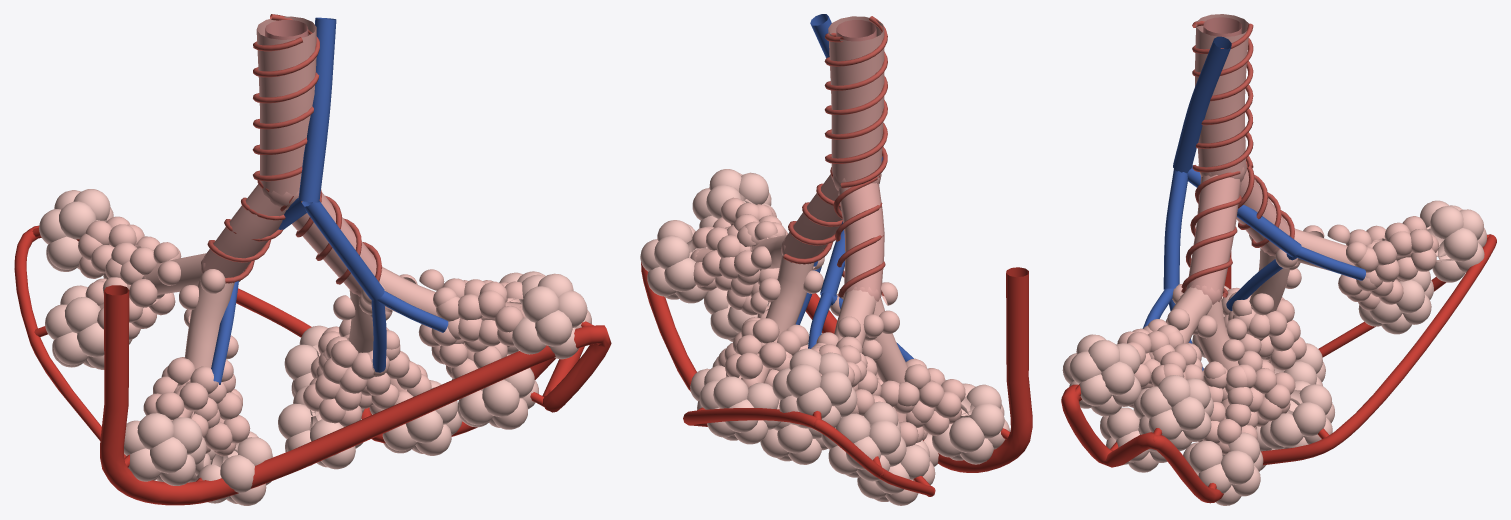
Rendered from bronquiolos.glb.
3 views of the same model, side by side, from view 1: azimuth 30°, elevation 25°; view 2: azimuth 150°, elevation 25°; view 3: azimuth 270°, elevation 25° (orthographic). The views are drawn at different scales.
Visible parts, largest first — view 1: sac, alv_duct, vein, art, bronchiole, resp, terminal, muscle, alv_resp, mucosa, duct; view 2: sac, alv_duct, vein, bronchiole, terminal, muscle, resp, alv_resp, art, mucosa, duct; view 3: sac, alv_duct, vein, art, terminal, muscle, bronchiole, alv_resp, resp, mucosa.
Boxes of the visible parts, x1=… form: sac: x1=39, y1=189, x2=591, y2=505; alv_duct: x1=78, y1=216, x2=523, y2=453; vein: x1=14, y1=225, x2=611, y2=505; art: x1=211, y1=17, x2=448, y2=384; bronchiole: x1=256, y1=16, x2=316, y2=210; resp: x1=142, y1=253, x2=437, y2=369; terminal: x1=201, y1=184, x2=382, y2=296; muscle: x1=207, y1=14, x2=381, y2=284; alv_resp: x1=153, y1=242, x2=457, y2=381; mucosa: x1=265, y1=19, x2=308, y2=39; duct: x1=99, y1=244, x2=525, y2=456; sac: x1=640, y1=169, x2=1009, y2=505; alv_duct: x1=692, y1=197, x2=965, y2=446; vein: x1=641, y1=262, x2=1032, y2=496; bronchiole: x1=828, y1=16, x2=884, y2=190; terminal: x1=781, y1=174, x2=884, y2=301; muscle: x1=783, y1=16, x2=887, y2=297; resp: x1=751, y1=235, x2=908, y2=383; alv_resp: x1=750, y1=221, x2=899, y2=360; art: x1=795, y1=14, x2=913, y2=361; mucosa: x1=836, y1=20, x2=876, y2=41; duct: x1=690, y1=223, x2=961, y2=424; sac: x1=1062, y1=200, x2=1486, y2=505; alv_duct: x1=1117, y1=216, x2=1436, y2=444; vein: x1=1061, y1=234, x2=1496, y2=503; art: x1=1142, y1=36, x2=1365, y2=370; terminal: x1=1187, y1=169, x2=1289, y2=304; muscle: x1=1181, y1=21, x2=1294, y2=297; bronchiole: x1=1195, y1=14, x2=1248, y2=181; alv_resp: x1=1148, y1=224, x2=1367, y2=378; resp: x1=1165, y1=228, x2=1354, y2=370; mucosa: x1=1203, y1=17, x2=1241, y2=36.
Bounding box in the file's own units: 0.0777 × 0.0777 × 0.0719.
